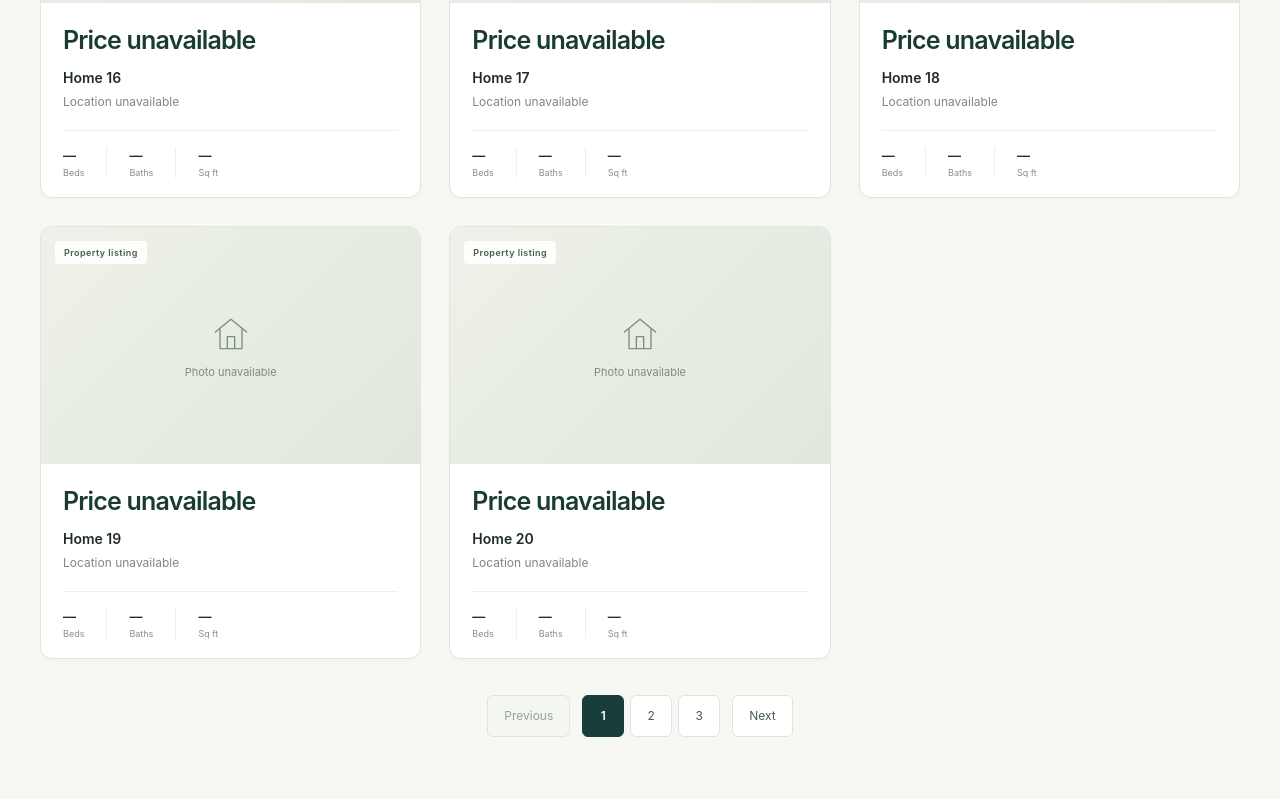
Test: requests global L_SystemPrice asc sorting and resets a later page
(page scrolled)
Click the button "Next".
click(763, 716)  # box [732,695,793,737]
(page scrolled)
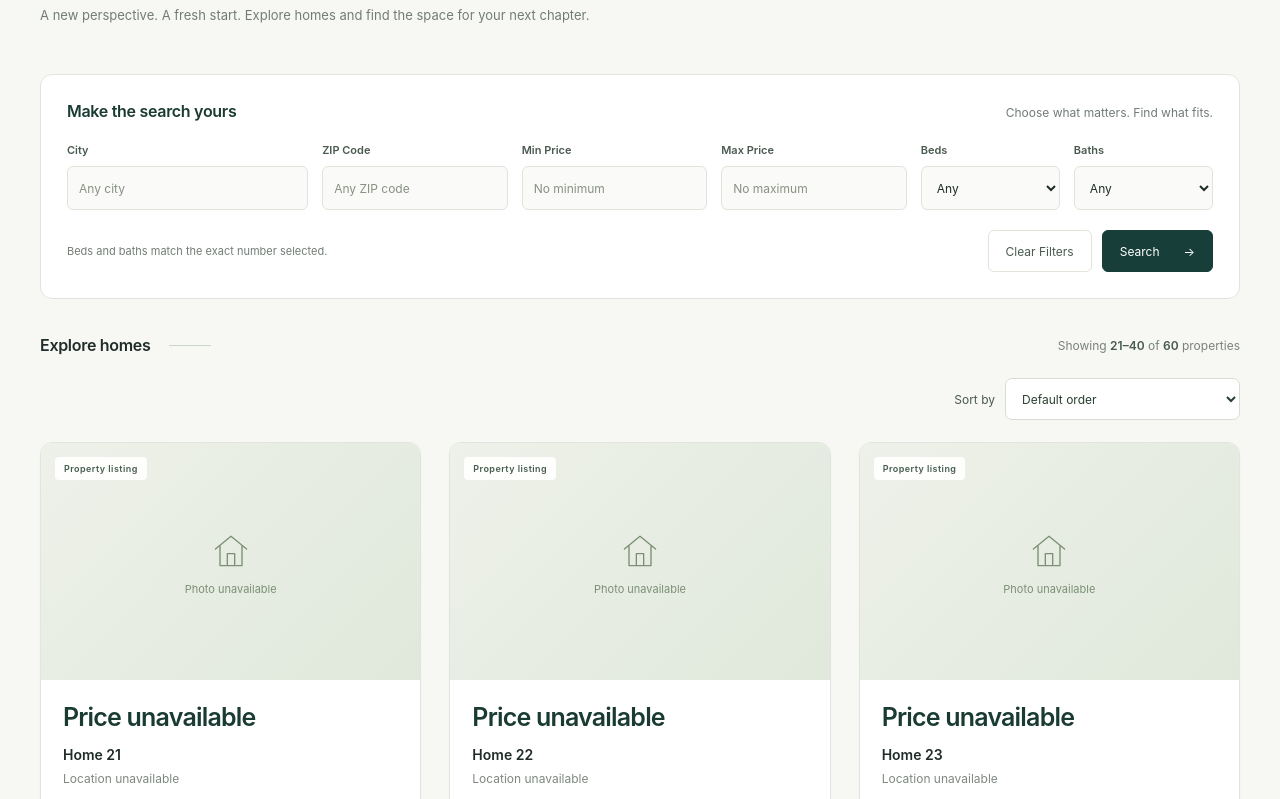
Check: the heading "Home 21" is shown, box [63,746,121,763]
Select "Price: low to high" in the dropdown labelled "Sort by" at (1122, 399), box [1005,378,1240,420]
(page scrolled)
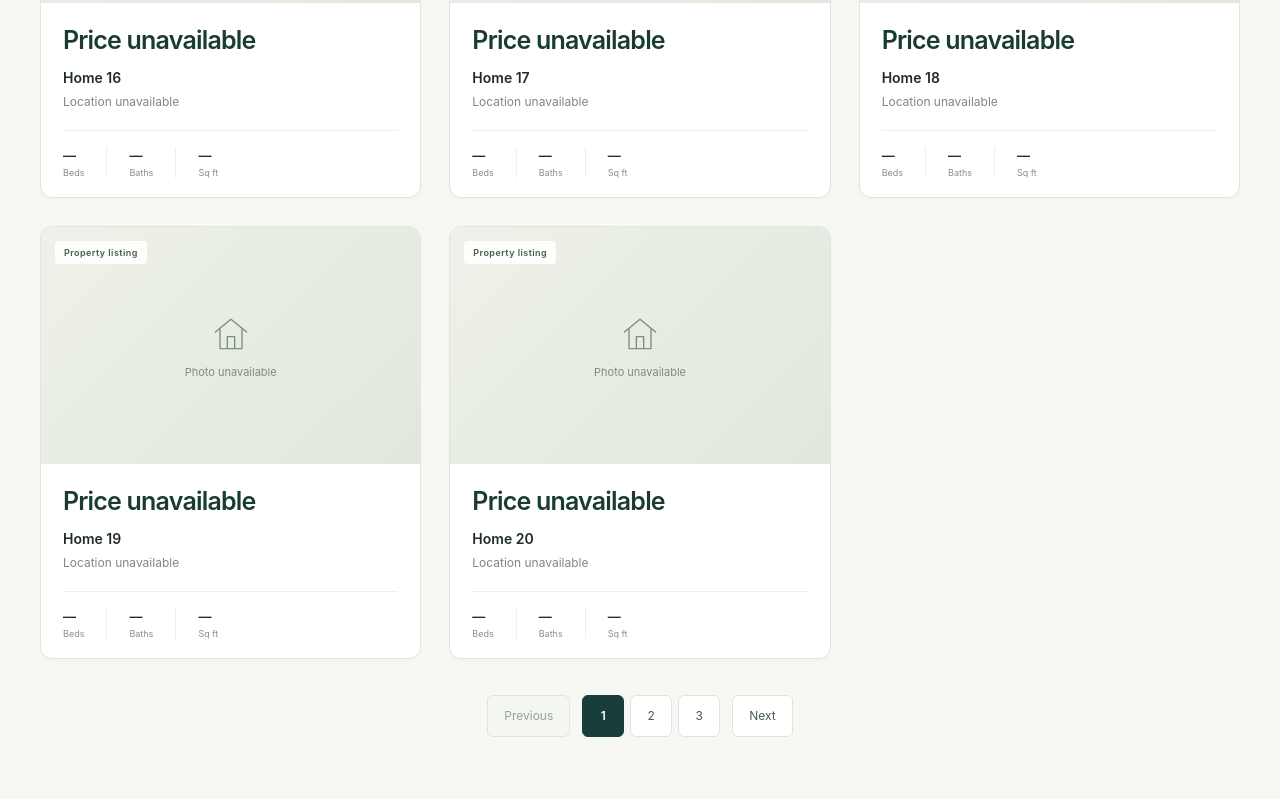
Click the button "Next".
click(763, 716)  # box [732,695,793,737]
(page scrolled)
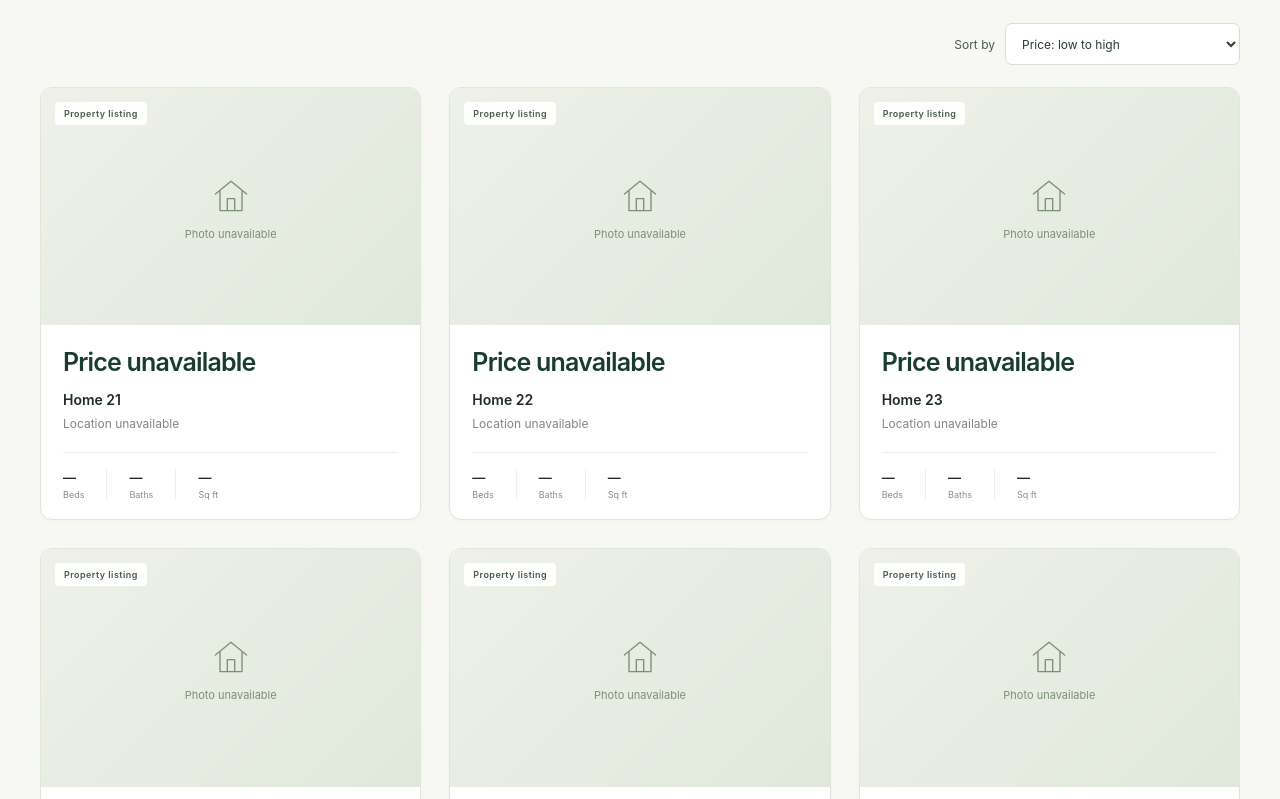
Check: the heading "Home 21" is shown, box [63,391,121,408]
